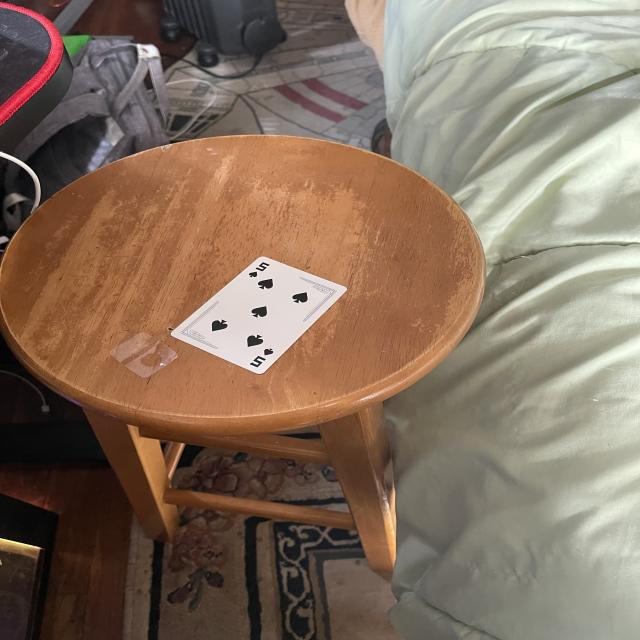5 of spades: (170, 257, 346, 373)
